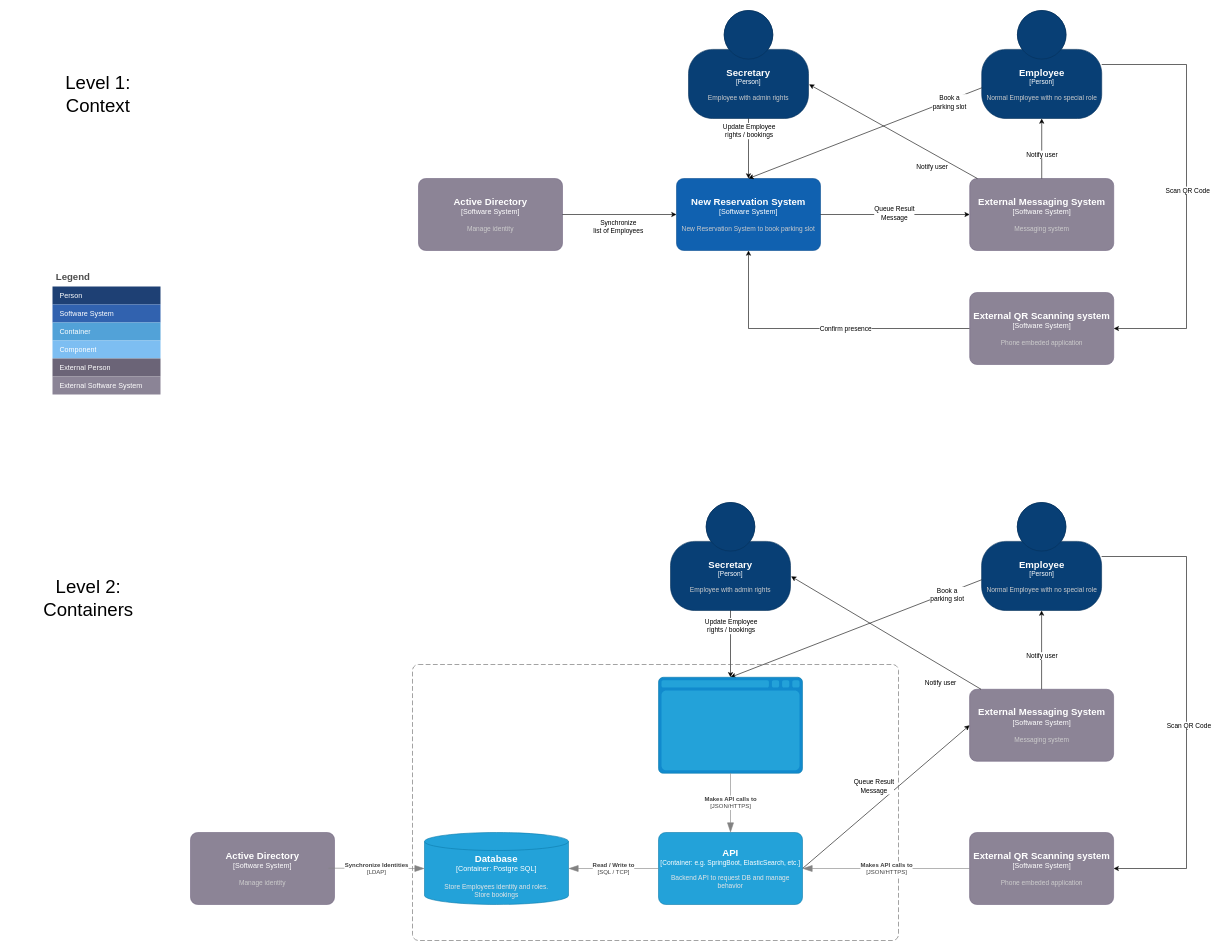
This 1221x951 diagram has some shape labels left out. The box of each missing label's shape, as (x1, y1, x2, y2) in pixels:
New Reservation System [Software System]: (412, 664, 898, 940)
Web Application [Container: e.g. JavaScript, Angular etc.]: (658, 677, 802, 773)
